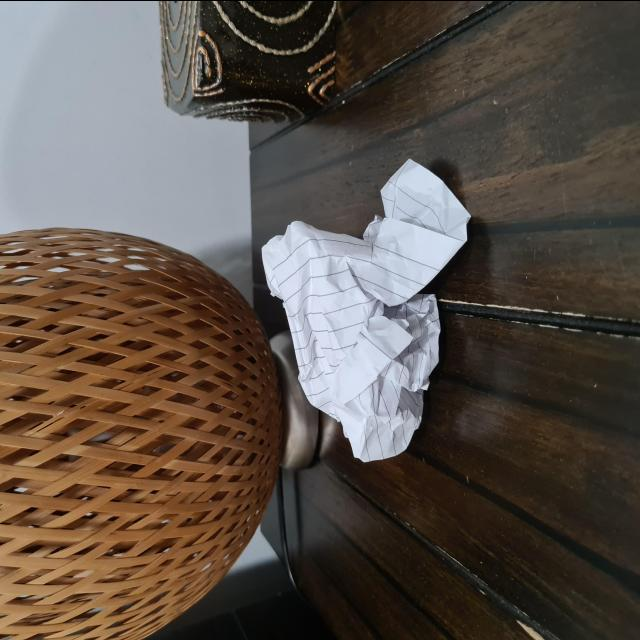kertas: (252, 162, 471, 470)
